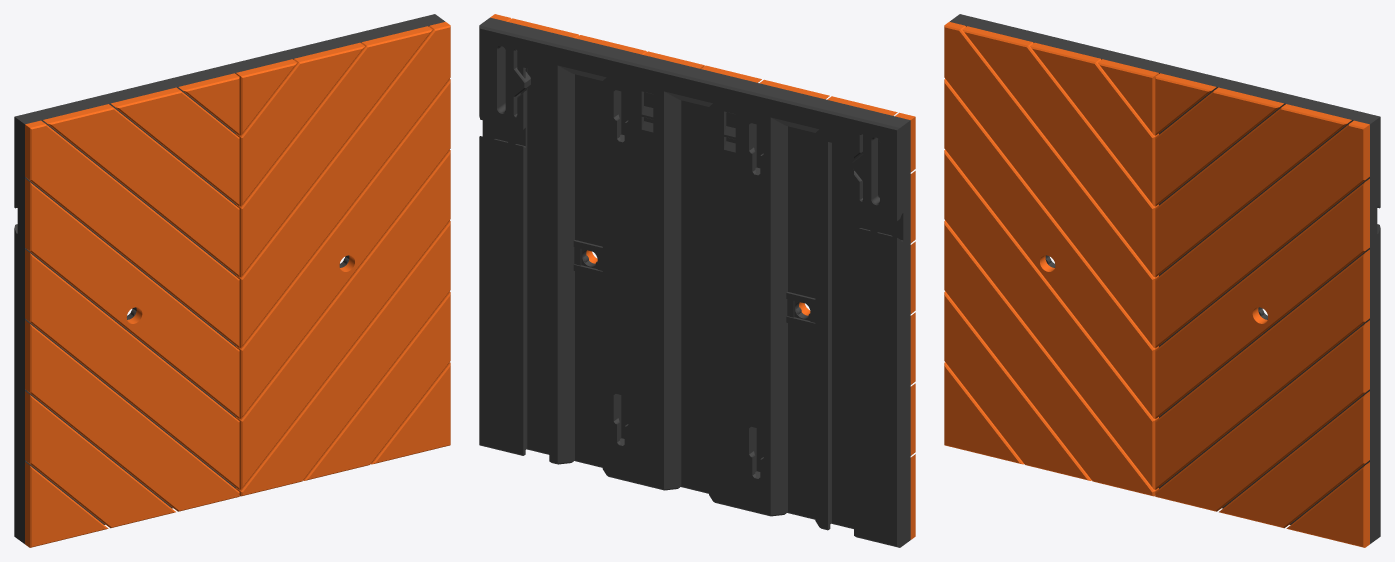
Rendered from Faceplate_Chevron_1W-15H.lib.glb.
The picture shows the model from 3 angles, left to right: view 1: azimuth 30°, elevation 25°; view 2: azimuth 150°, elevation 25°; view 3: azimuth 330°, elevation 25°; orthographic projection.
Visible parts, largest first — view 1: Faceplate_Chevron_1W-15H; view 2: Faceplate_Chevron_1W-15H; view 3: Faceplate_Chevron_1W-15H.
Boxes of the visible parts, left/top/right/bottom form: Faceplate_Chevron_1W-15H: left=14, top=14, right=450, bottom=547; Faceplate_Chevron_1W-15H: left=479, top=14, right=915, bottom=547; Faceplate_Chevron_1W-15H: left=944, top=14, right=1380, bottom=547.
Bounding box in the file's own units: 87 × 83 × 6.2.
